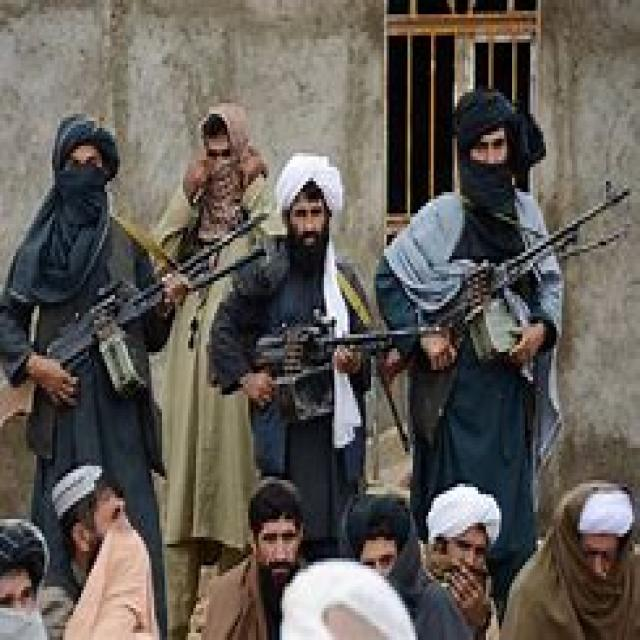civilian: (162, 277, 253, 636), (499, 480, 637, 636), (345, 491, 470, 636), (52, 466, 157, 636), (154, 103, 269, 256), (201, 480, 303, 636), (426, 484, 499, 636), (0, 519, 47, 636)
terrorist: (0, 114, 264, 633), (376, 89, 627, 612), (209, 153, 384, 555)
